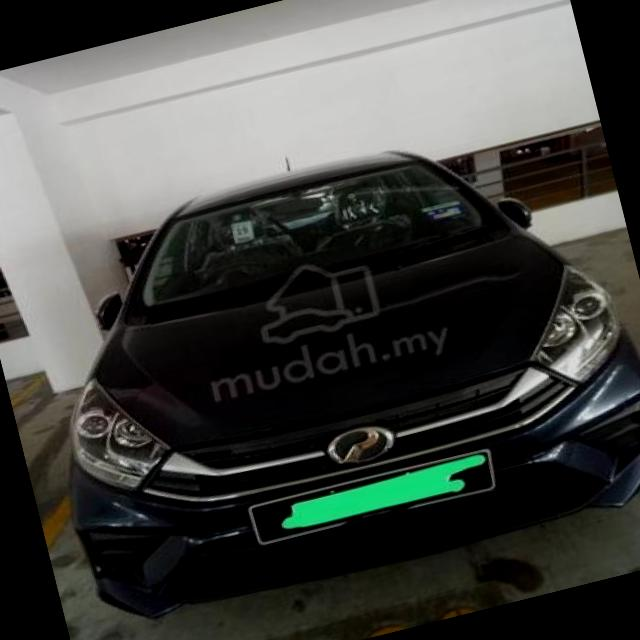PeroduaAxia: (0, 94, 640, 637)
